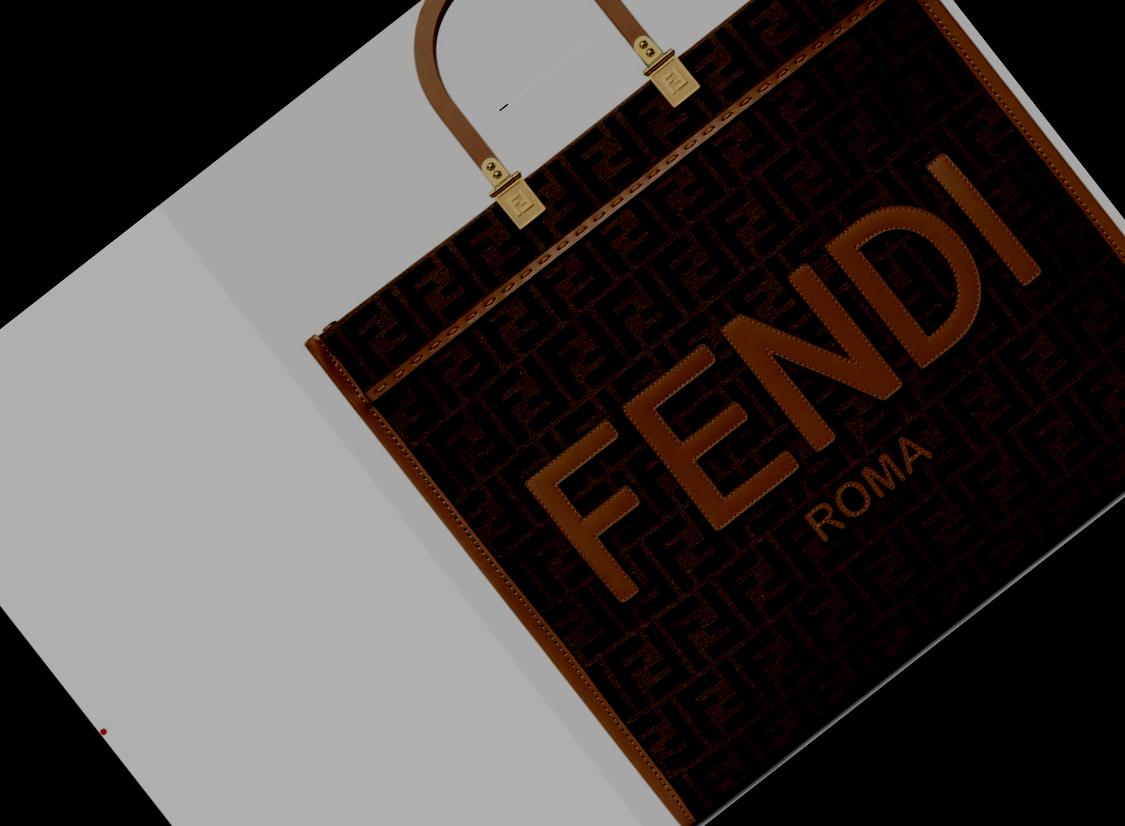FENDI: (519, 147, 1048, 610)
